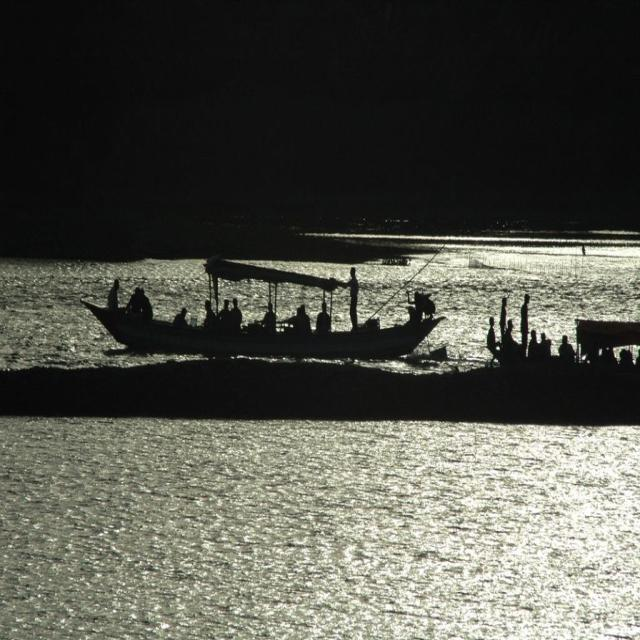Boat: (74, 245, 472, 375), (466, 318, 640, 383)
